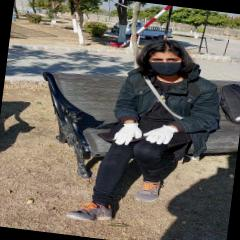gloved: (112, 120, 143, 146), (141, 124, 177, 146)
